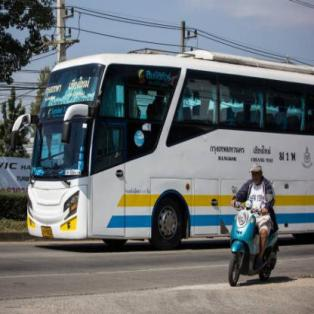Motocicleta: (220, 198, 282, 288)
